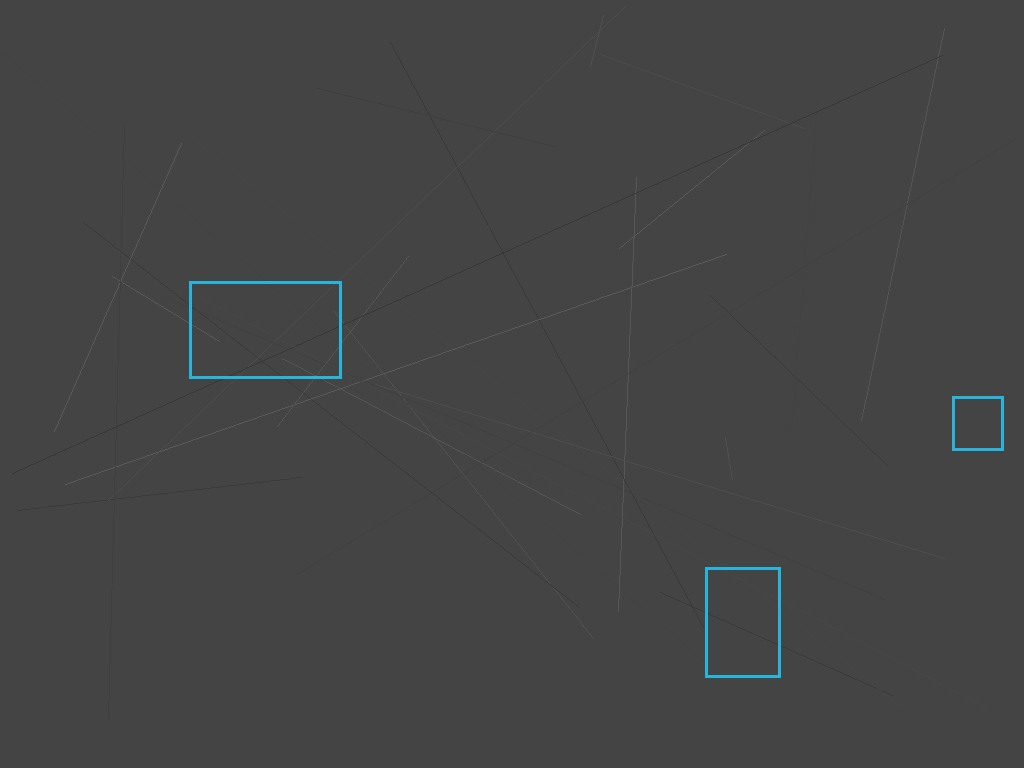D10: (952, 396, 1003, 450)
D20: (189, 281, 341, 378)
D40: (705, 567, 780, 677)
